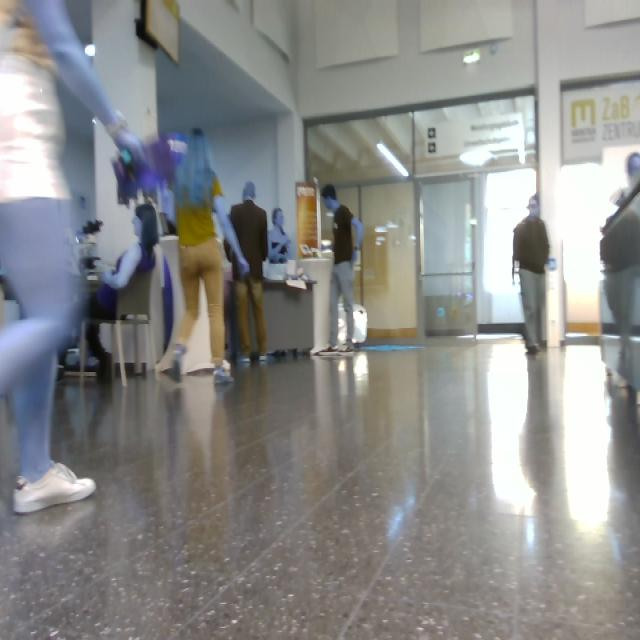desk: (264, 281, 312, 353)
door: (307, 96, 536, 344), (324, 209, 332, 241)
light bulb: (377, 142, 409, 177), (464, 49, 480, 64), (85, 44, 96, 57)
person: (1, 1, 140, 513), (164, 129, 249, 384), (86, 202, 159, 382), (230, 184, 268, 362), (322, 185, 362, 352), (513, 196, 550, 354), (612, 153, 640, 209), (269, 209, 292, 264)
pillar: (535, 1, 566, 348)
staircase: (601, 177, 640, 394)
table: (300, 257, 332, 354), (183, 282, 214, 374), (162, 237, 185, 358)
tiled floor: (1, 342, 640, 640)
